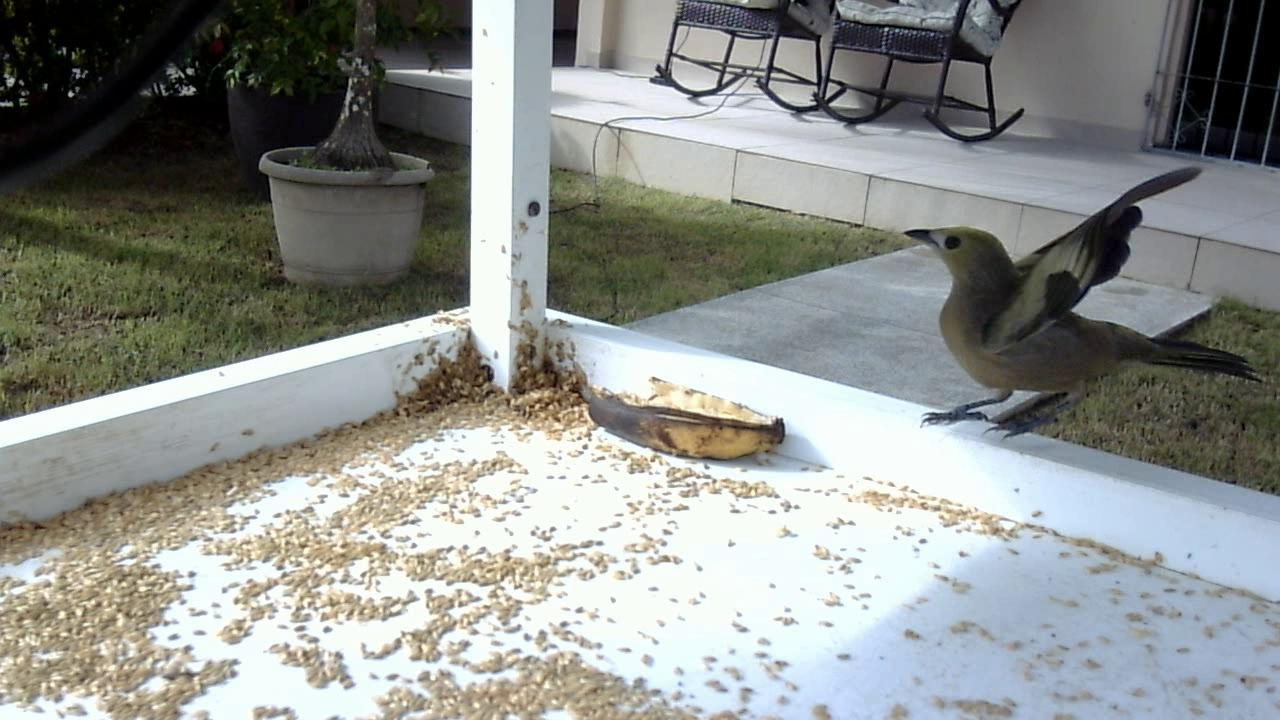sanhaco_do_coqueiro: (887, 159, 1262, 469)
